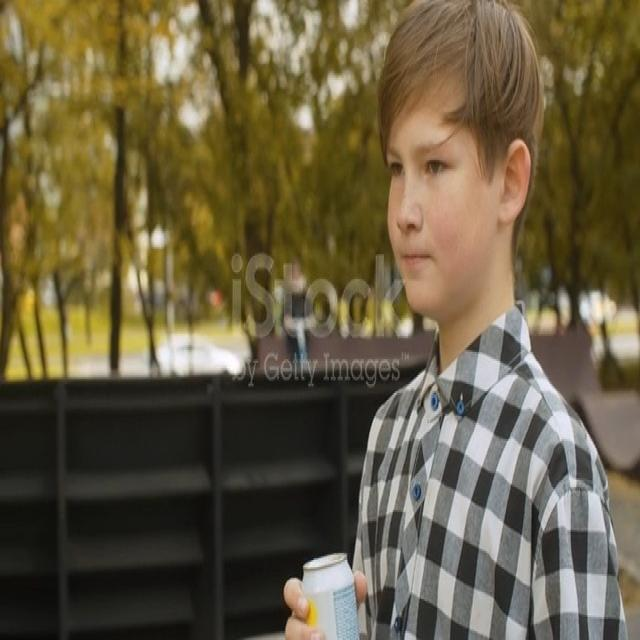can: (300, 551, 362, 640)
